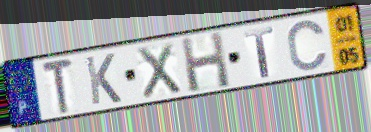C: (286, 18, 331, 73)
H: (178, 28, 233, 94)
K: (83, 51, 124, 107)
T: (39, 57, 76, 116), (242, 25, 276, 79)
X: (134, 40, 184, 102)
